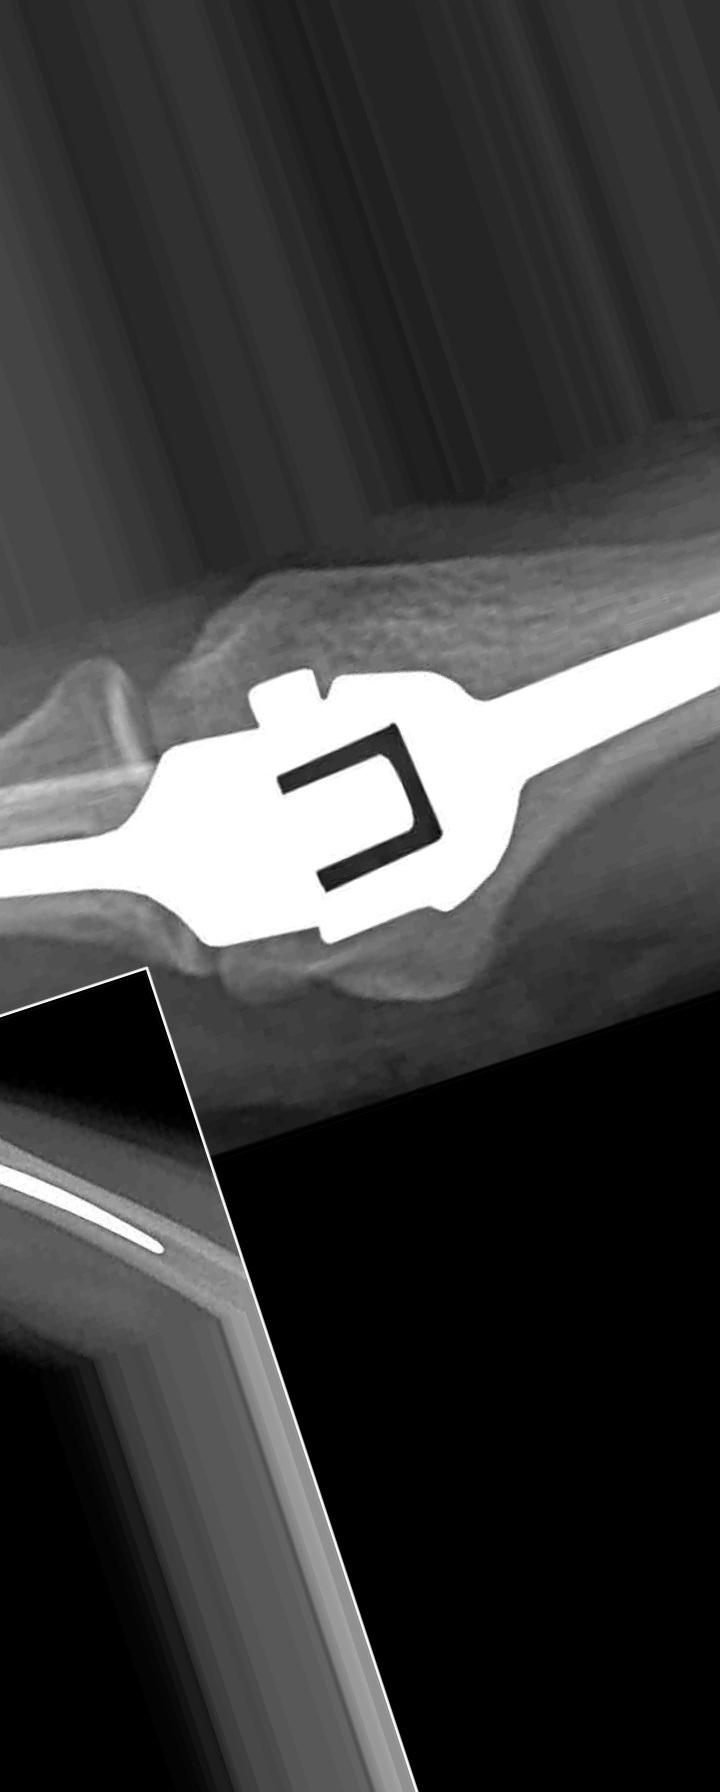Elbow - Osteonics - Stryker: (1, 594, 720, 961)
